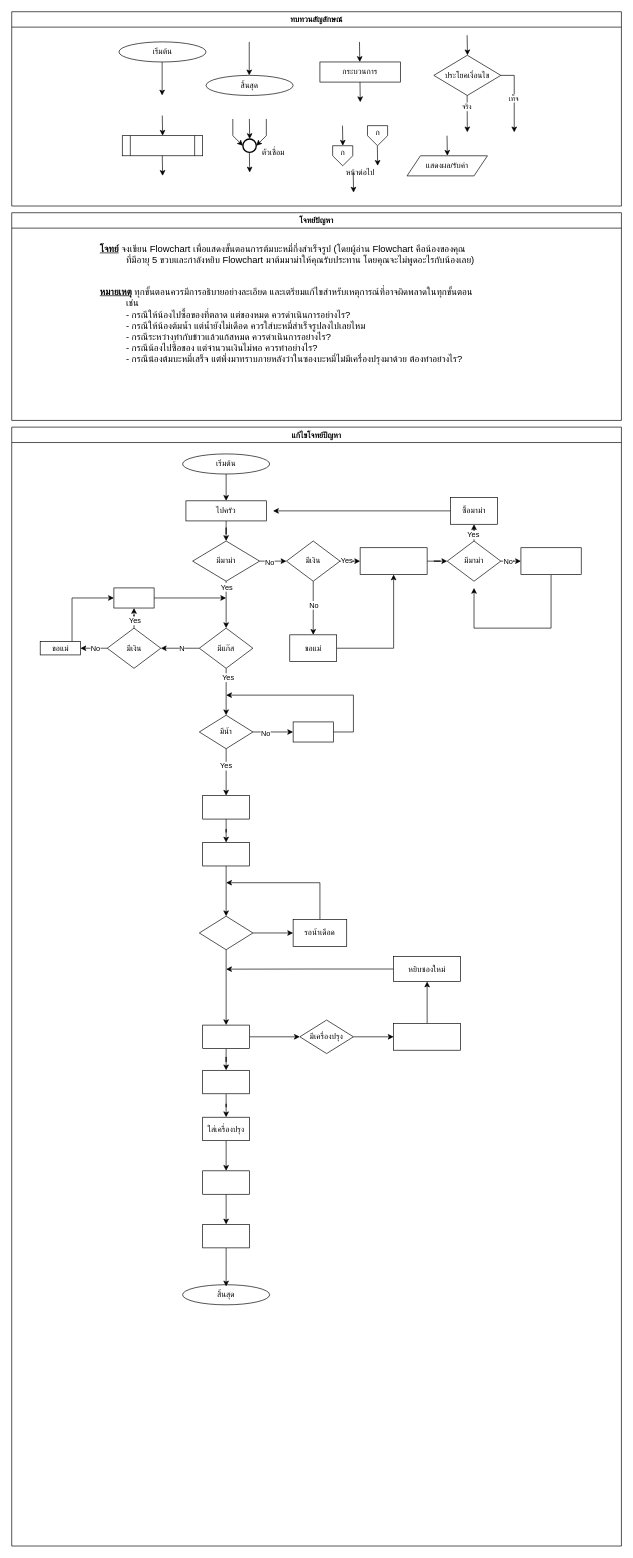
The diagram is 633 pixels wide and 1558 high, and some of its shapes have lost their labels. The centre of each missing label's shape, as x and y in pixels:
กรอกน้ำ: (x=312, y=731)
ซื้อแก๊ส: (x=133, y=597)
ทิ้งลงถังขยะ: (x=427, y=1036)
น้ำเดือด: (x=226, y=933)
ฟังก์ชัน/โมดูล: (x=162, y=145)
เทน้ำ: (x=226, y=854)
เปิดซอง: (x=226, y=1036)
เปิดแก๊ส: (x=226, y=807)
เอามาให้: (x=226, y=1236)
ใส่จาน: (x=226, y=1182)
ใส่บะหมี่: (x=226, y=1082)
ไปตลาด: (x=393, y=561)
ไปร้านอื่น: (x=550, y=561)
